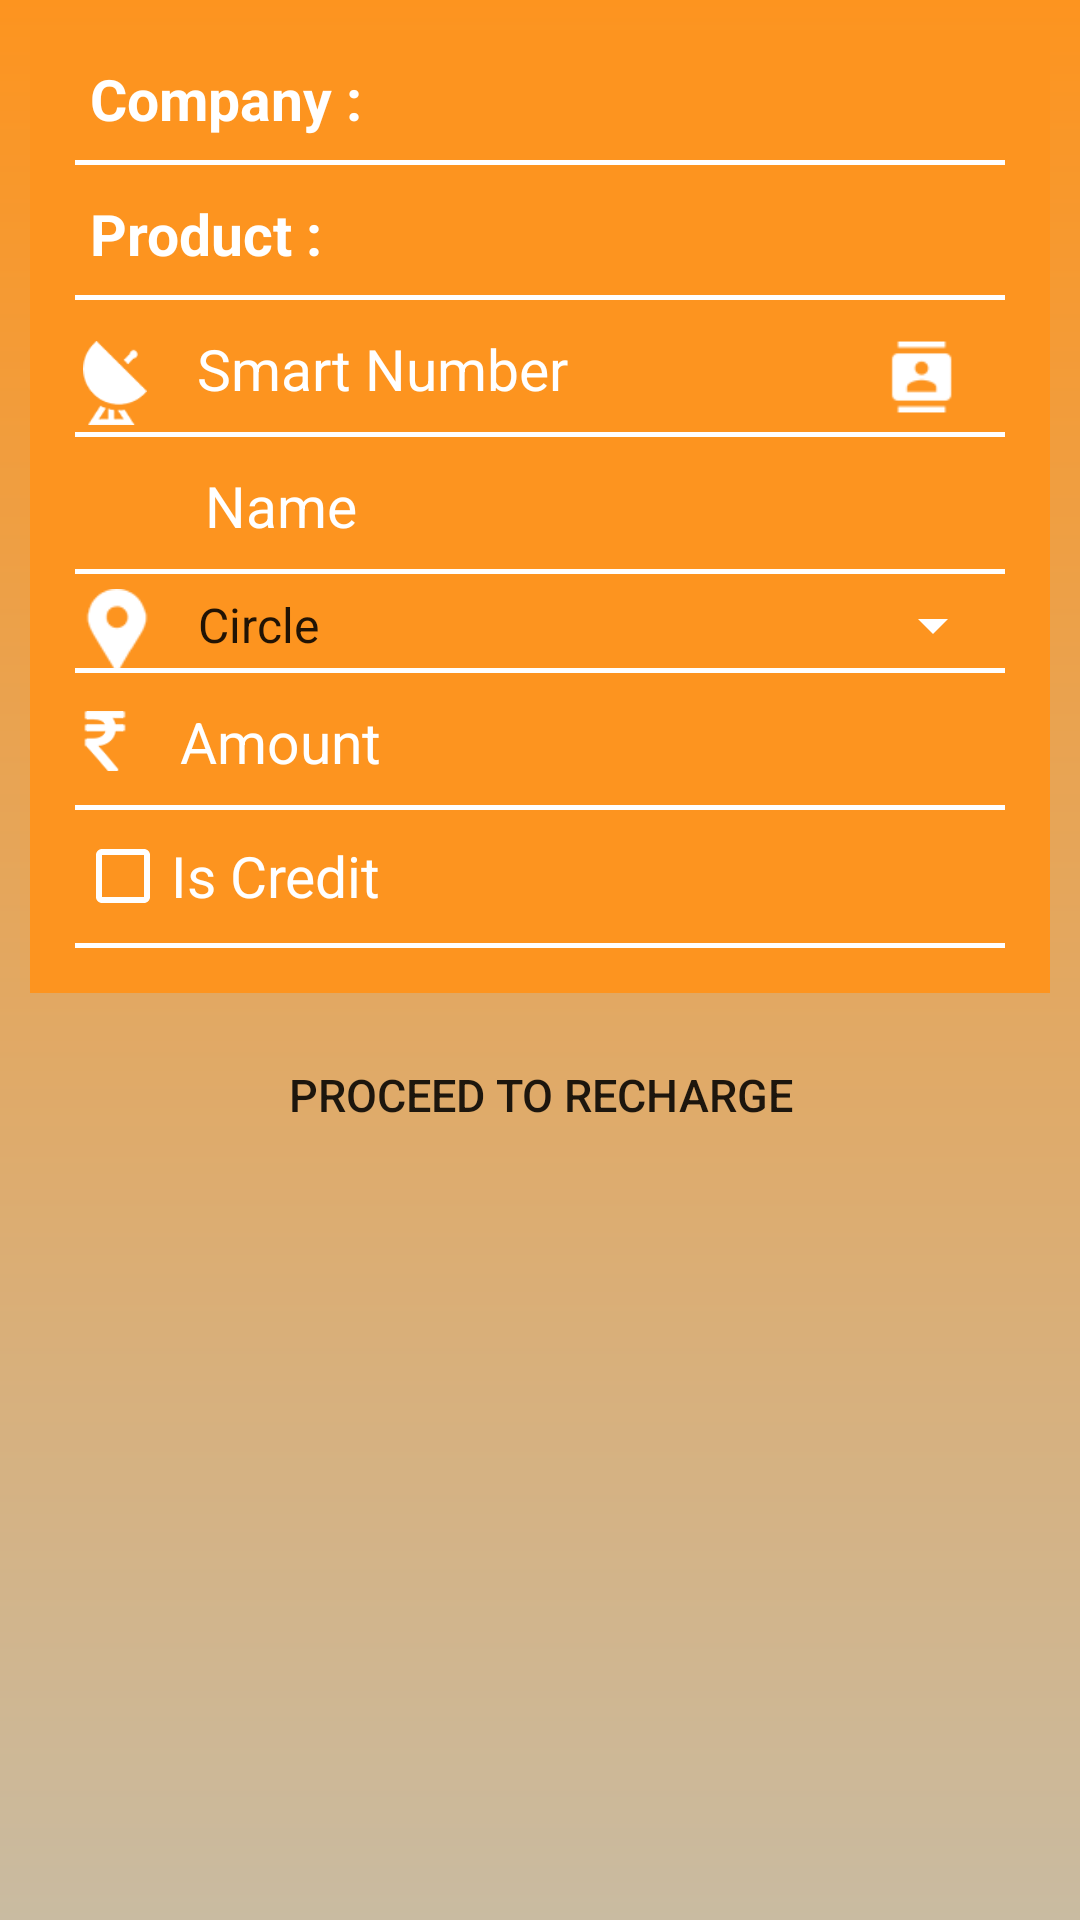

Point at icon controls on the screen. Image size 1080 × 1920, points as [x,y].
contact list: [921,377]
dth recharge: [115,383]
